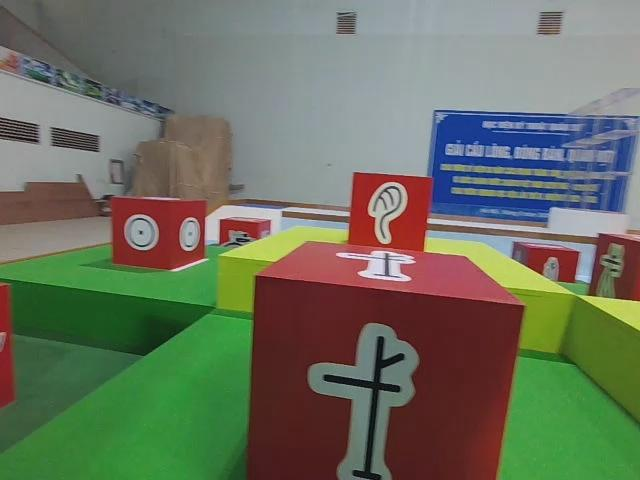R1: (218, 215, 270, 255)
R2 Fake: (345, 170, 433, 254), (585, 231, 640, 313)
R2 Real: (246, 237, 523, 480), (109, 194, 207, 272)
